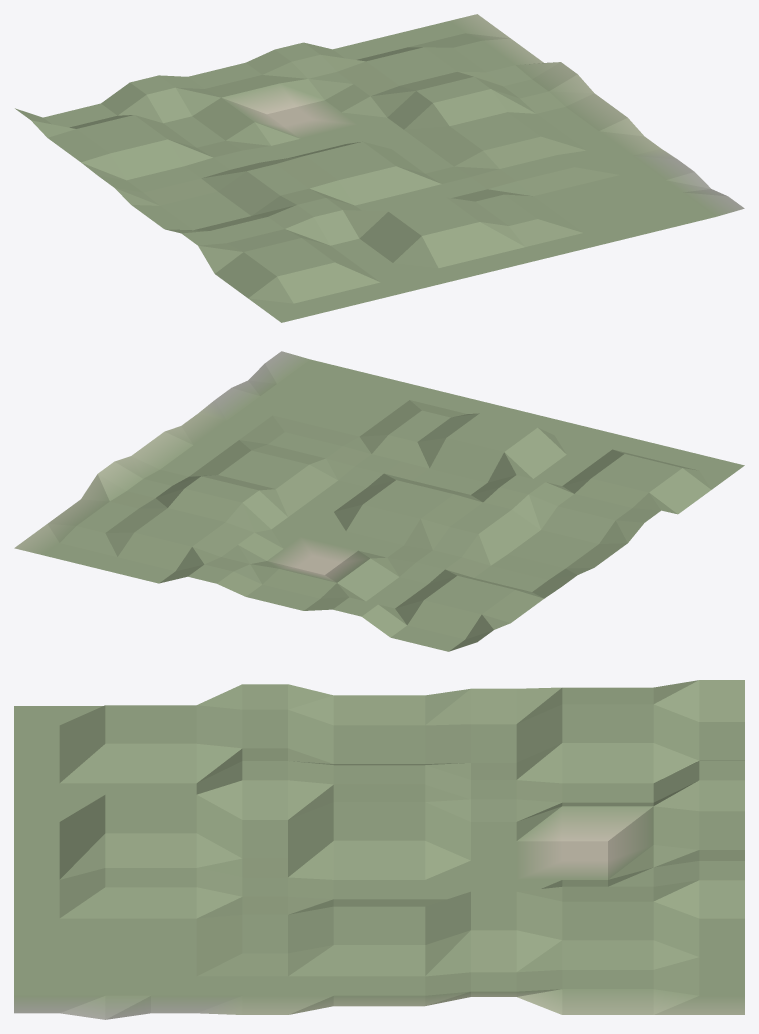
The picture shows the model from 3 angles, top to bottom: view 1: azimuth 30°, elevation 25°; view 2: azimuth 150°, elevation 25°; view 3: azimuth 270°, elevation 25°; orthographic projection. The views are drawn at different scales.
Bounding box in the file's own units: 32 × 1.55 × 32.
